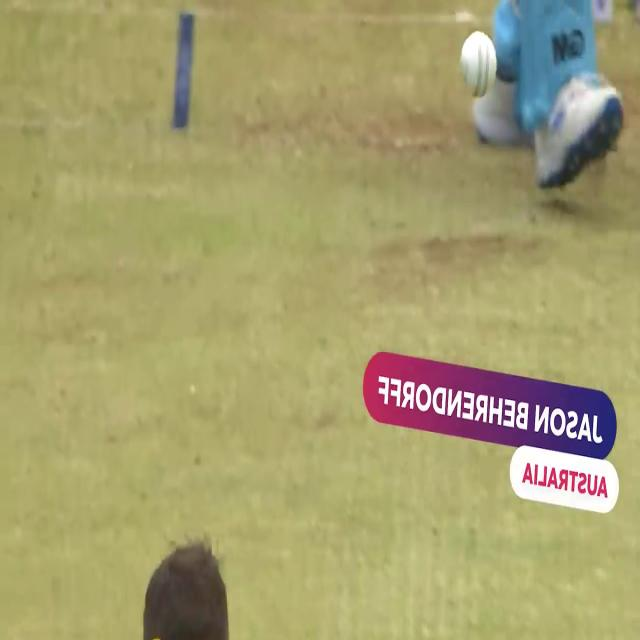ball: (457, 26, 503, 101)
